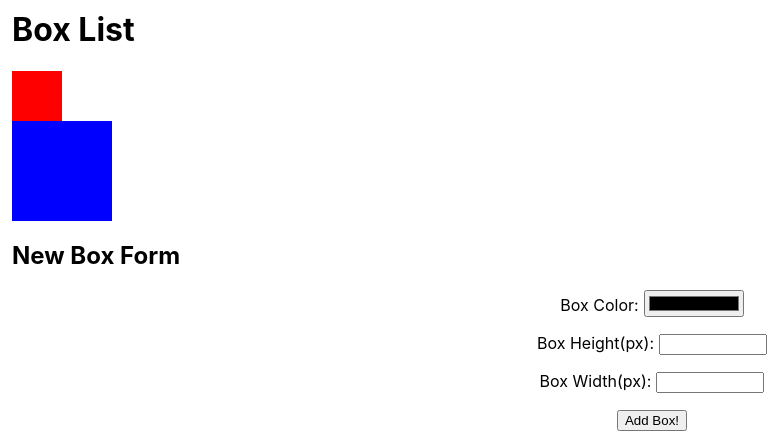
Test: delete target box by click
Click the element with test id "1": (37, 96) [12,71,62,121]
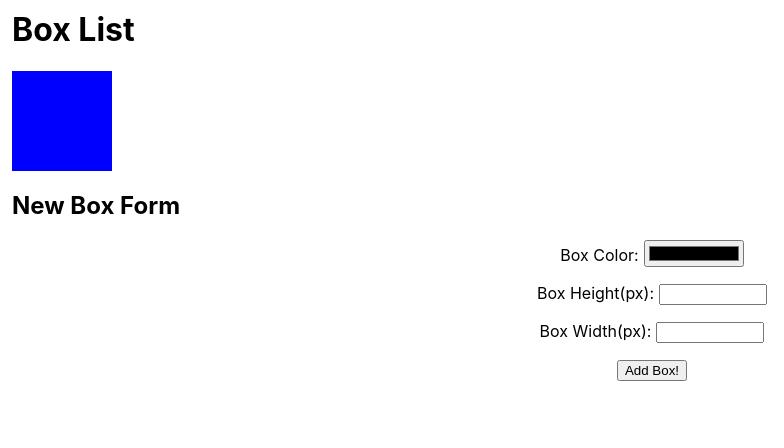
Expected: the element with test id "2" is shown, [12,71,112,171]
Expected: the element with test id "1" is gone
